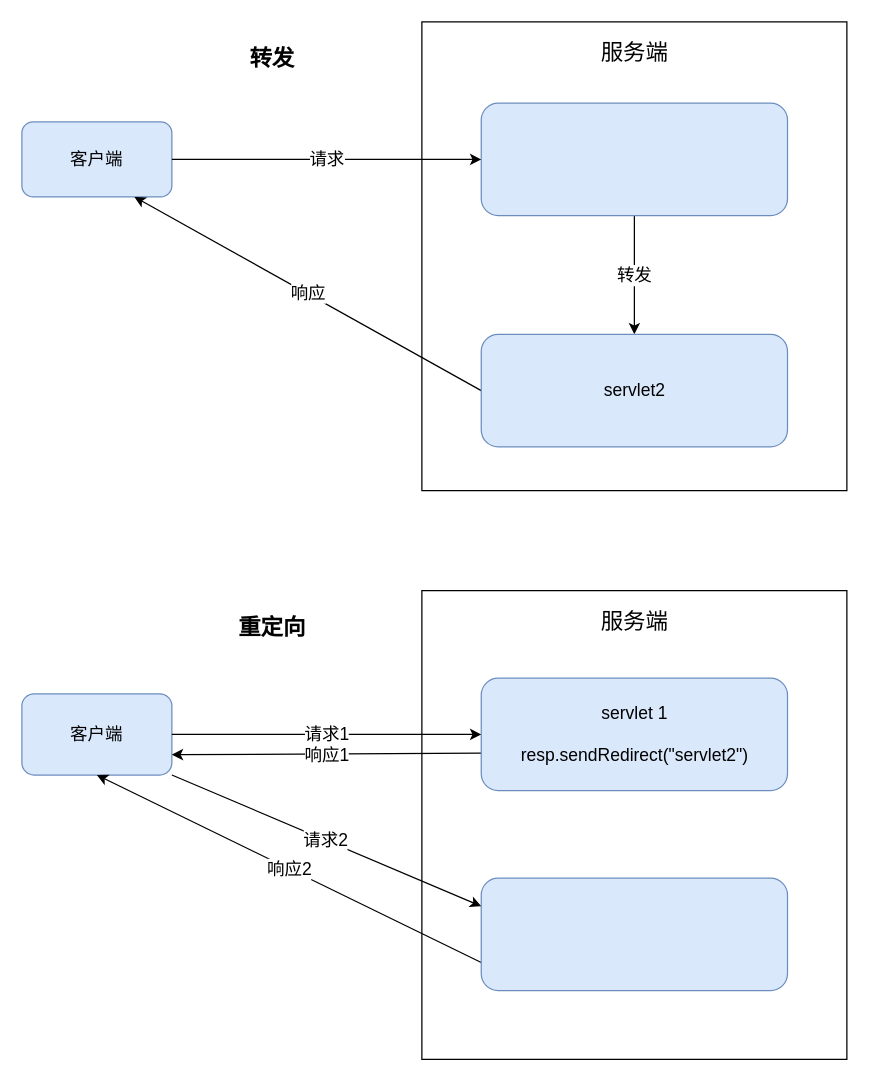
Image size: 869x1081. Some labels were removed from this diagram. The box of each missing label's shape, as (x1, y1, x2, y2) in pixels:
servlet 2: (480, 877, 788, 991)
servlet1 req.getRequestDispatcher("servlet2") .forward(req,resp): (480, 102, 788, 216)
